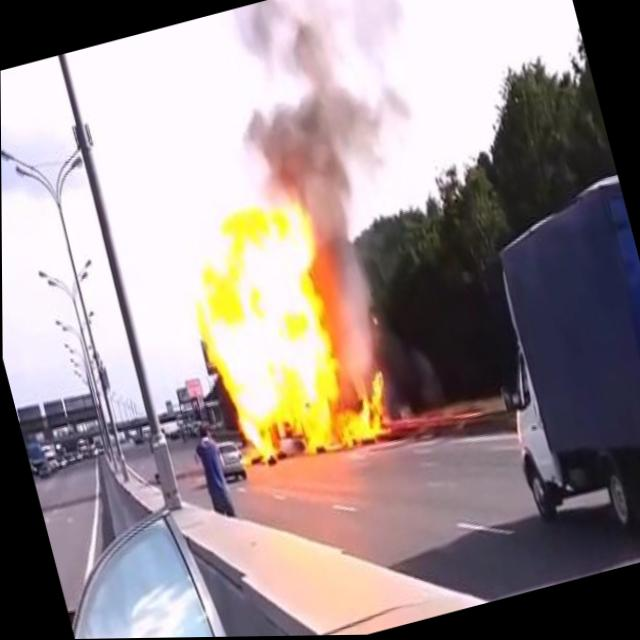fire: (166, 173, 401, 478)
